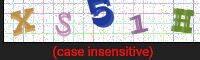1: (127, 10, 152, 38)
5: (84, 1, 122, 33)
H: (166, 4, 198, 39)
S: (49, 7, 79, 37)
X: (8, 4, 42, 37)
